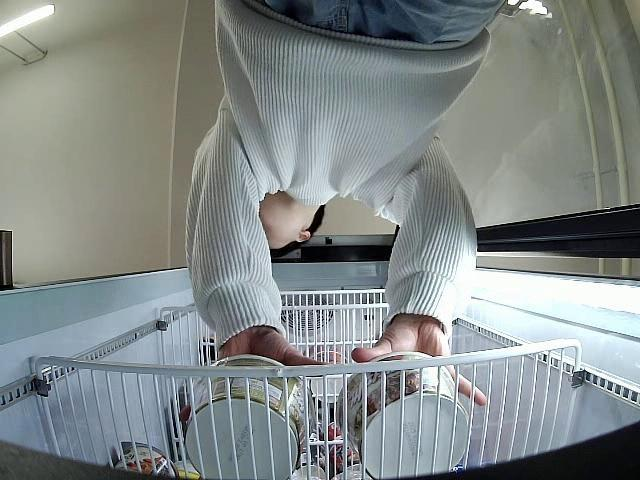03_chapagetti_L: (335, 353, 472, 480), (185, 353, 316, 480)
